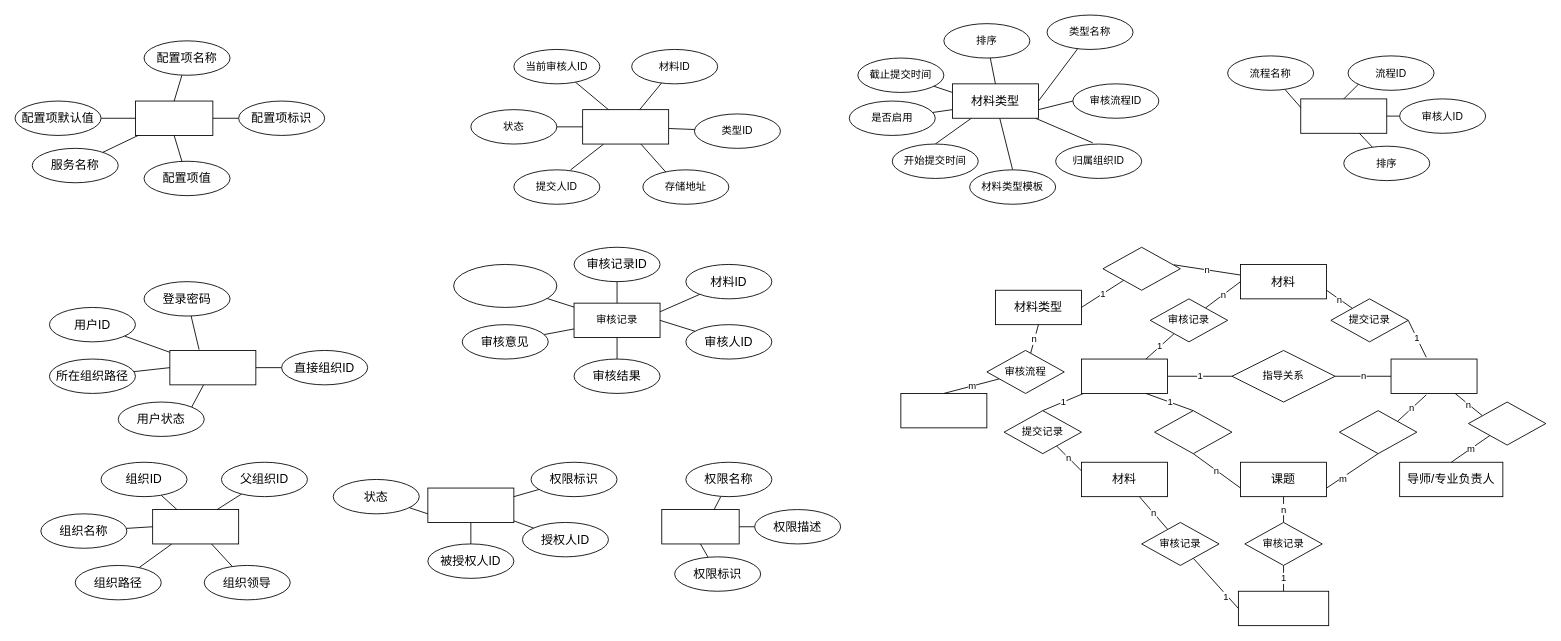
Image size: 1561x641. Some labels were removed from this diagram. The centre of each missing label's shape, as x and y in pixels:
"上一次审核记录ID" goes at pixel 505 285.
"专业负责人" goes at pixel 1283 608.
"包含" goes at pixel 1141 268.
"学生" goes at pixel 1433 375.
"审核人" goes at pixel 943 410.
"导师" goes at pixel 1124 375.
"授权记录" goes at pixel 470 504.
"权限表" goes at pixel 700 526.
"材料提交记录" goes at pixel 625 126.
"流程" goes at pixel 1343 115.
"用户" goes at pixel 212 367.
"申报记录" goes at pixel 1193 432.
"系统参数配置" goes at pixel 174 117.
"组织" goes at pixel 195 526.
"选题记录" goes at pixel 1378 432.
"问题记录" goes at pixel 1507 423.
